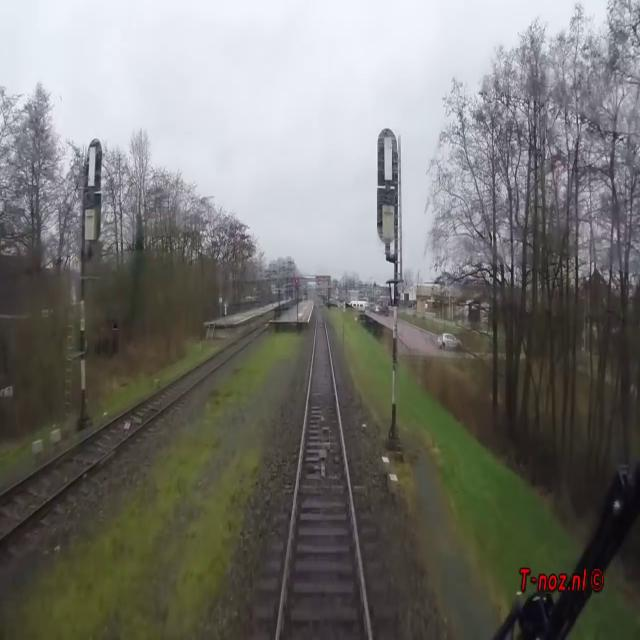rail-track: (0, 319, 271, 533), (279, 302, 368, 639)
